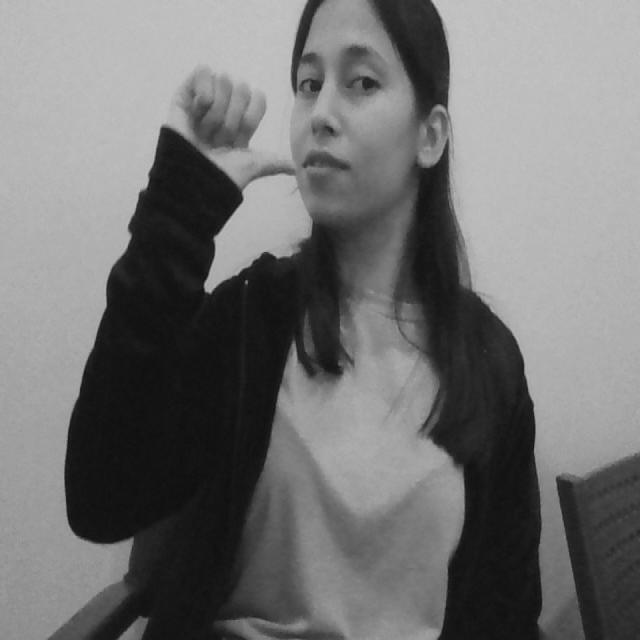icmek: (143, 63, 323, 193)
